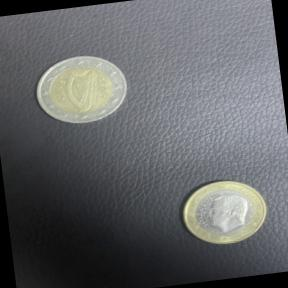coin: (24, 44, 136, 134), (171, 170, 274, 256)
